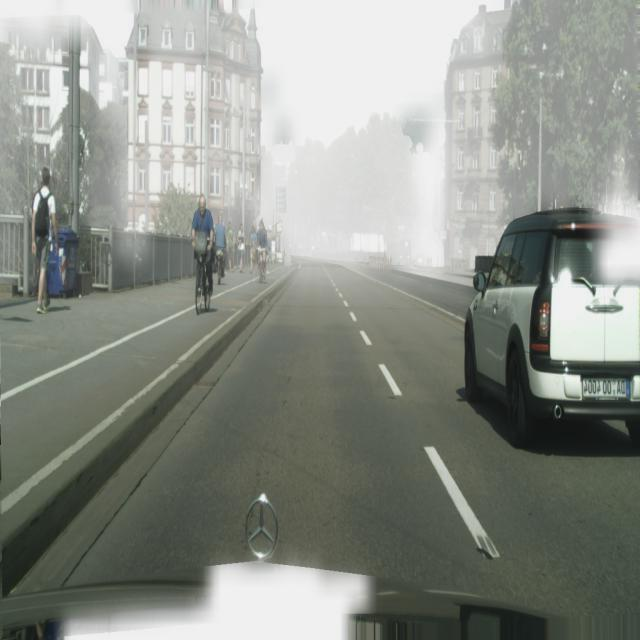car: (189, 196, 213, 314), (215, 205, 226, 286), (258, 220, 267, 282)
person: (32, 166, 58, 314), (237, 221, 246, 271), (226, 221, 235, 270), (248, 223, 257, 272)
truck: (463, 209, 639, 448)
